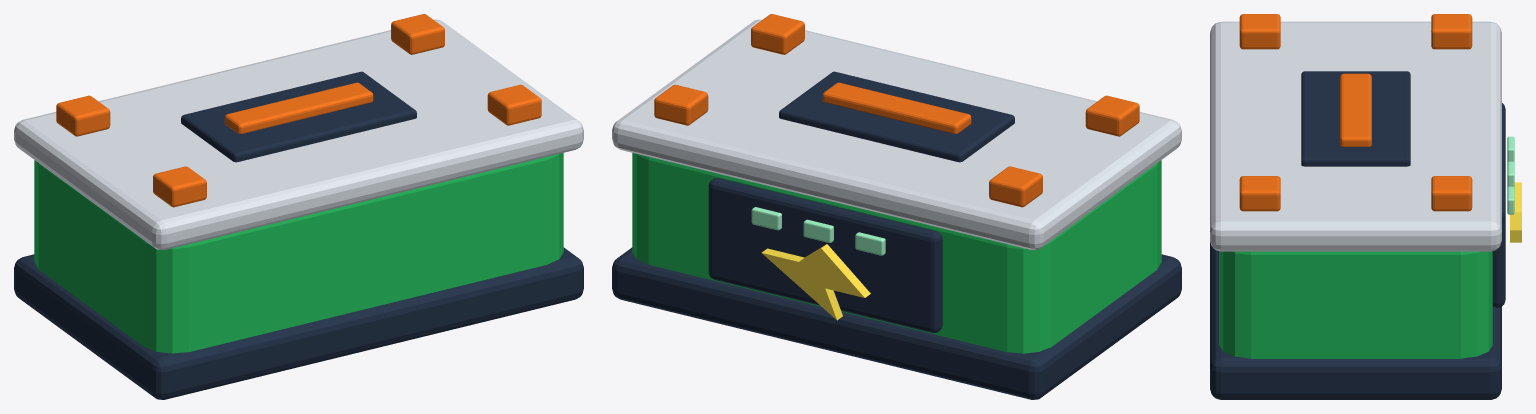
Rendered from bateria-empilhavel.glb.
The picture shows the model from 3 angles, left to right: view 1: azimuth 30°, elevation 25°; view 2: azimuth 150°, elevation 25°; view 3: azimuth 270°, elevation 25°; orthographic projection.
Parts seen in each view (by area): view 1: Battery green shell, Battery top rim, Battery bottom bumper, Battery handle recess, Battery flat handle, Stack interlock.001, Stack interlock.002, Stack interlock, Stack interlock.003; view 2: Battery top rim, Battery green shell, Battery bottom bumper, Battery faceplate, Battery handle recess, Battery lightning, Battery flat handle, Stack interlock, Stack interlock.003, Stack interlock.001, Stack interlock.002, Charge LED 0 (+2 smaller); view 3: Battery top rim, Battery green shell, Battery bottom bumper, Battery handle recess, Battery flat handle, Stack interlock, Stack interlock.001, Stack interlock.002, Stack interlock.003, Battery faceplate, Battery lightning.
Part boxes in pixels (x1,y1,x2,y2): Battery green shell: (34,153,563,353); Battery top rim: (14,19,583,250); Battery bottom bumper: (14,247,583,399); Battery handle recess: (181,71,416,162); Battery flat handle: (224,82,373,133); Stack interlock.001: (56,95,110,136); Stack interlock.002: (487,84,541,125); Stack interlock: (153,166,206,207); Stack interlock.003: (391,14,444,54); Battery top rim: (612,19,1181,250); Battery green shell: (632,153,1161,353); Battery bottom bumper: (612,247,1181,399); Battery faceplate: (708,178,942,332); Battery handle recess: (779,71,1014,162); Battery lightning: (761,244,870,320); Battery flat handle: (822,82,971,133); Stack interlock: (1085,95,1139,136); Stack interlock.003: (654,84,708,125); Stack interlock.001: (989,166,1042,207); Stack interlock.002: (751,14,804,54); Charge LED 0: (855,232,885,255); Battery top rim: (1210,21,1501,251); Battery green shell: (1219,251,1492,358); Battery bottom bumper: (1210,241,1501,399); Battery handle recess: (1301,71,1410,166); Battery flat handle: (1340,73,1371,146); Stack interlock: (1239,14,1280,49); Stack interlock.001: (1431,14,1472,49); Stack interlock.002: (1239,176,1280,211); Stack interlock.003: (1431,176,1472,211); Battery faceplate: (1492,103,1505,307); Battery lightning: (1510,182,1521,242).
Size of the model in its own units: 0.54 by 0.2385 by 0.342.
